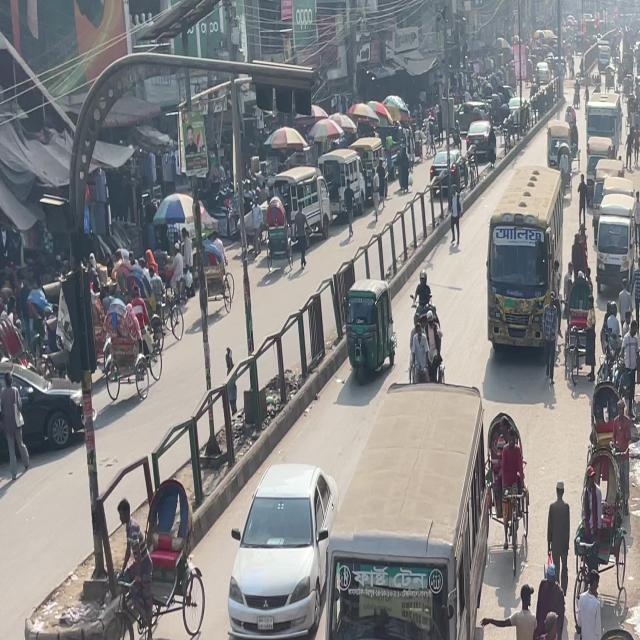bus: (318, 374, 492, 640), (324, 503, 469, 640), (486, 158, 567, 351), (489, 201, 559, 346), (583, 100, 622, 160)
car: (225, 467, 338, 640)
rickshaw: (346, 237, 409, 404)
